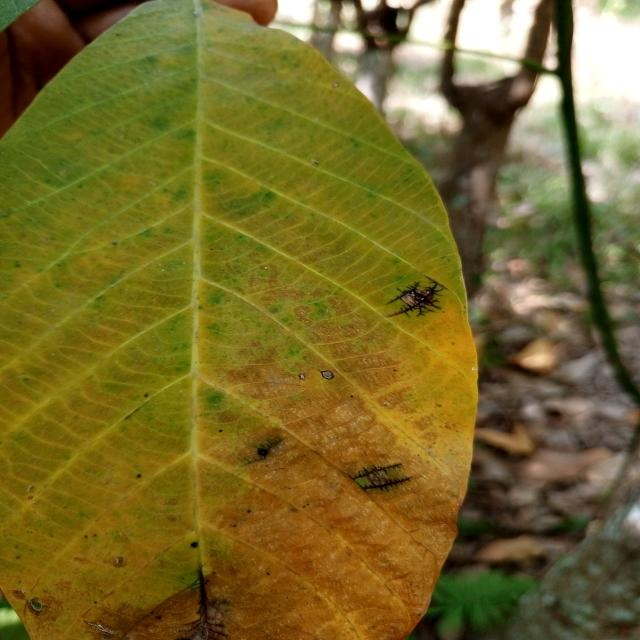Colletotrichum: (321, 370, 334, 380), (190, 541, 198, 548), (299, 373, 305, 380)
Corynespora: (175, 566, 229, 640), (383, 274, 450, 319), (239, 437, 285, 467), (348, 462, 402, 482), (358, 476, 414, 494)
